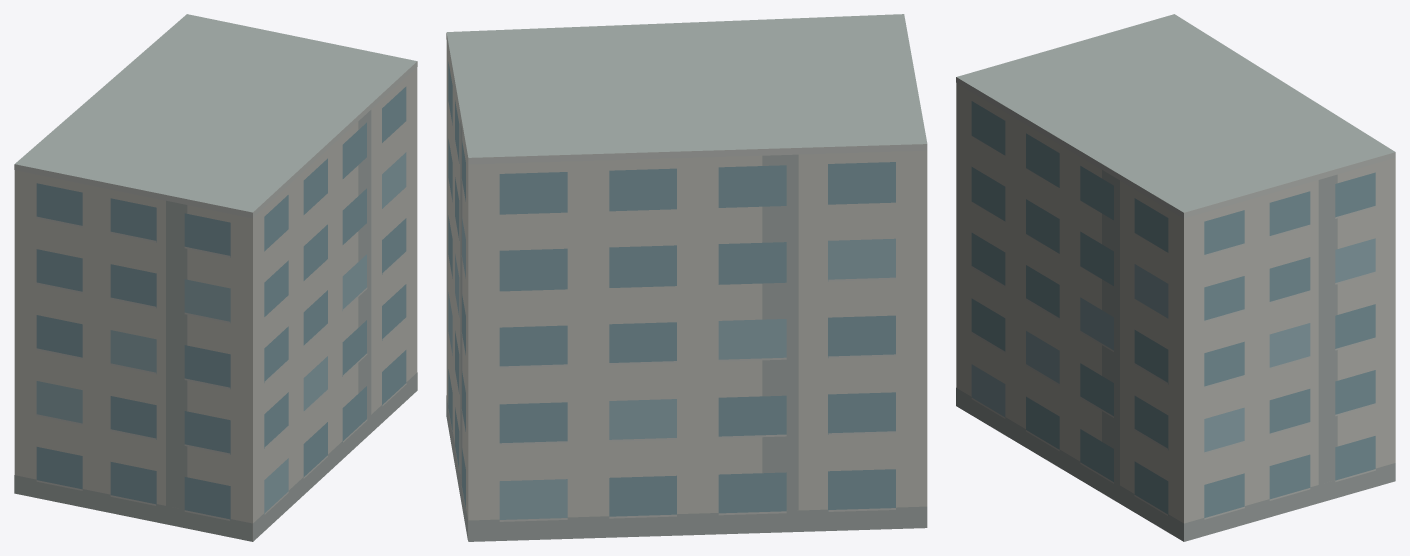
The model's file is survey-upis-32782013.glb.
The picture shows the model from 3 angles, left to right: view 1: azimuth 30°, elevation 25°; view 2: azimuth 150°, elevation 25°; view 3: azimuth 270°, elevation 25°; orthographic projection. The views are drawn at different scales.
Visible parts, largest first — view 1: survey-upis-32782013.tmp; view 2: survey-upis-32782013.tmp; view 3: survey-upis-32782013.tmp.
Part boxes in pixels (bbox=[...]): survey-upis-32782013.tmp: bbox=[14, 14, 417, 541]; survey-upis-32782013.tmp: bbox=[446, 14, 927, 541]; survey-upis-32782013.tmp: bbox=[956, 14, 1395, 541].
Size of the model in its own units: 18.02 by 13.9 by 16.83.
